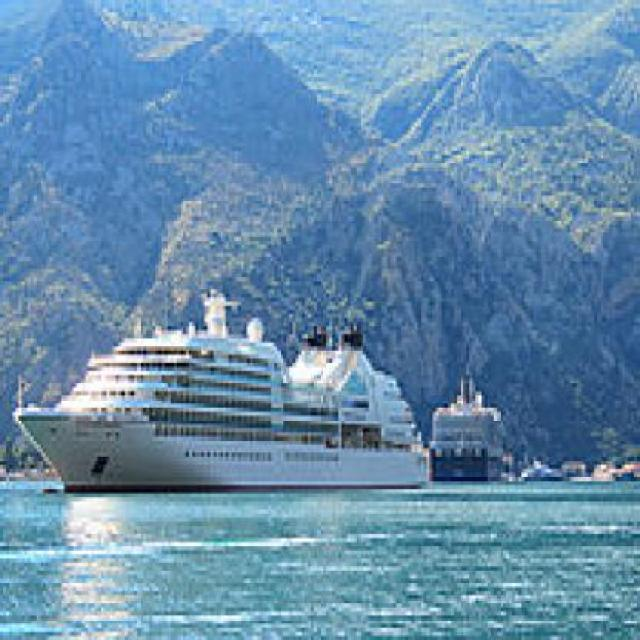cruise: (16, 282, 443, 506)
